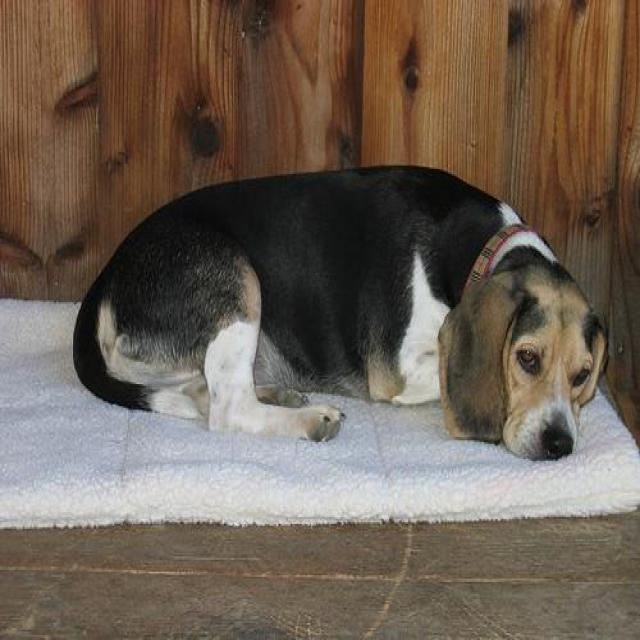beagle: (68, 157, 613, 461)
